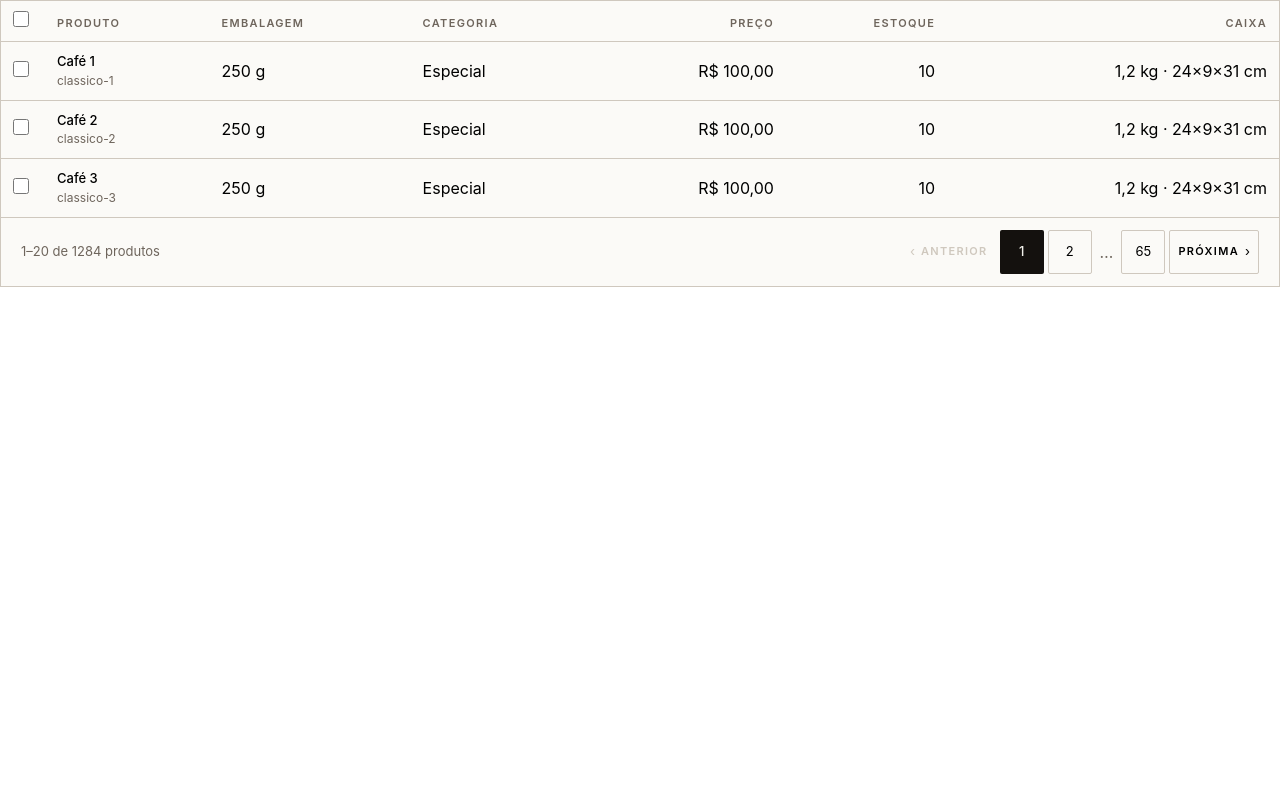
Scenario: o lote de preço › sem número digitado, o botão de aplicar está travado e não há prévia
The image size is (1280, 800).
Click the checkbox named "Marcar Café 1".
click(21, 69)  # box [13,61,29,77]
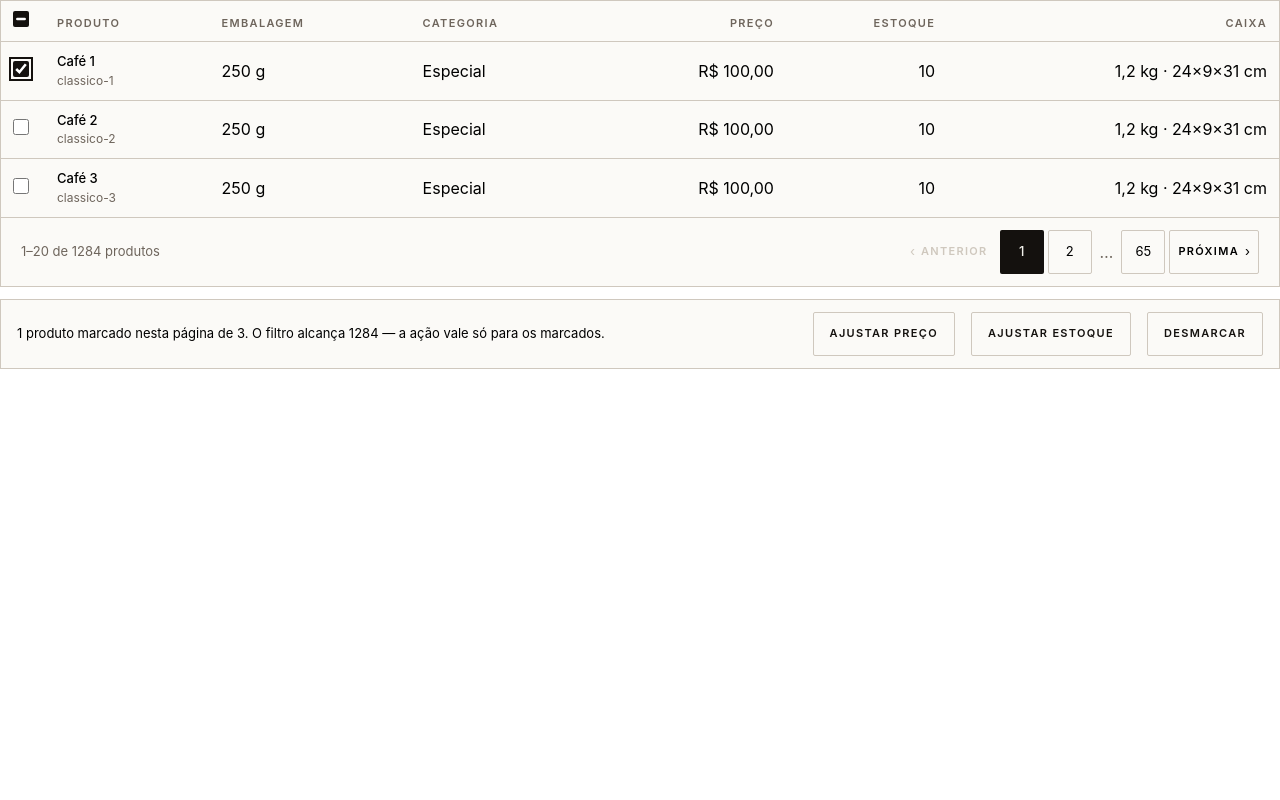
Click the checkbox named "Marcar Café 2".
click(21, 127)  # box [13,119,29,135]
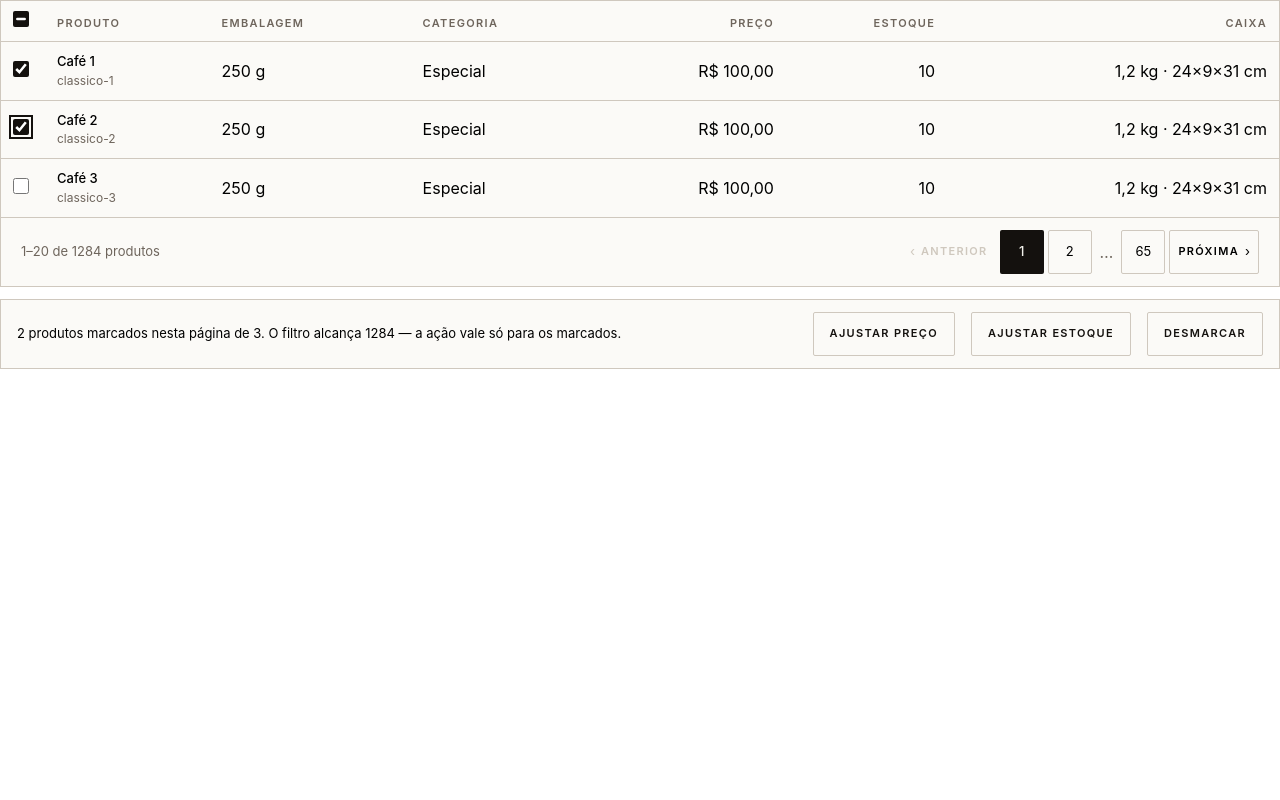
Click the button "Ajustar preço".
click(884, 334)  # box [813,312,955,356]
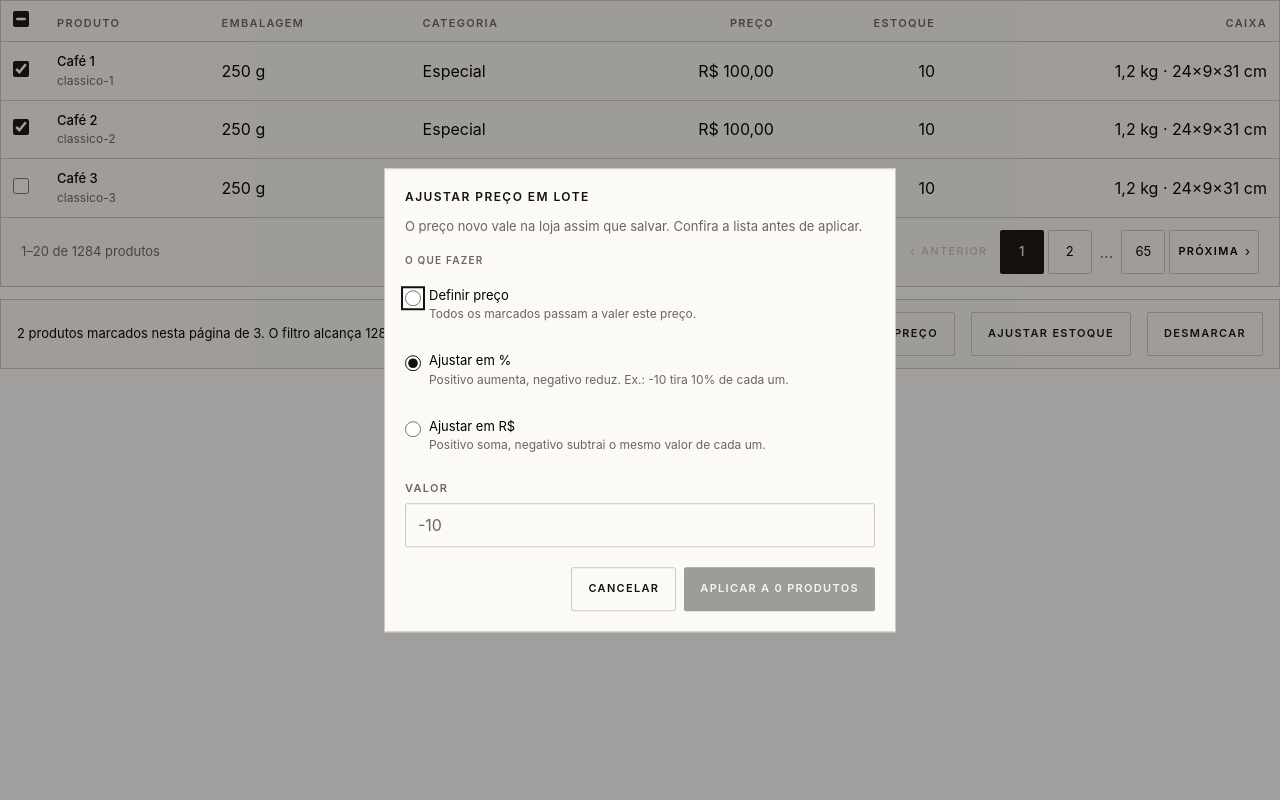
Expected: the button "Aplicar a 0 produtos" is disabled, [684,567,875,611]
